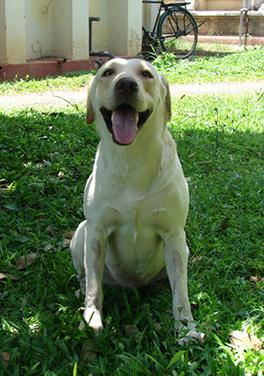Dog: (68, 43, 200, 352)
